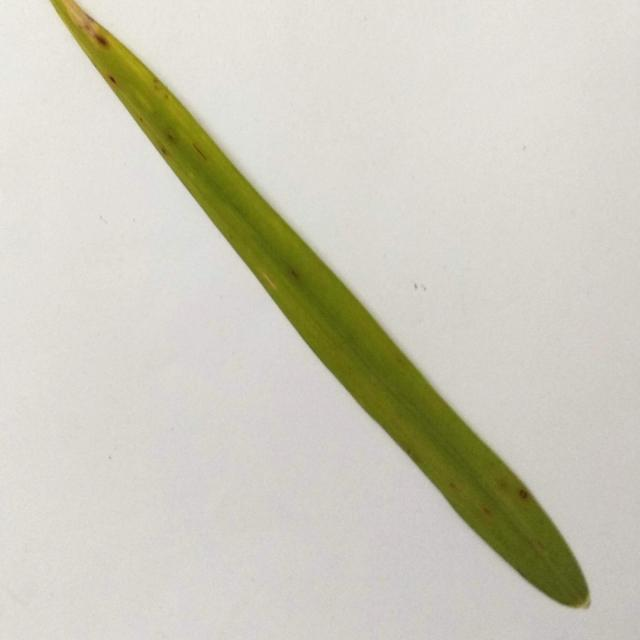Brown spot: (36, 0, 626, 640)
